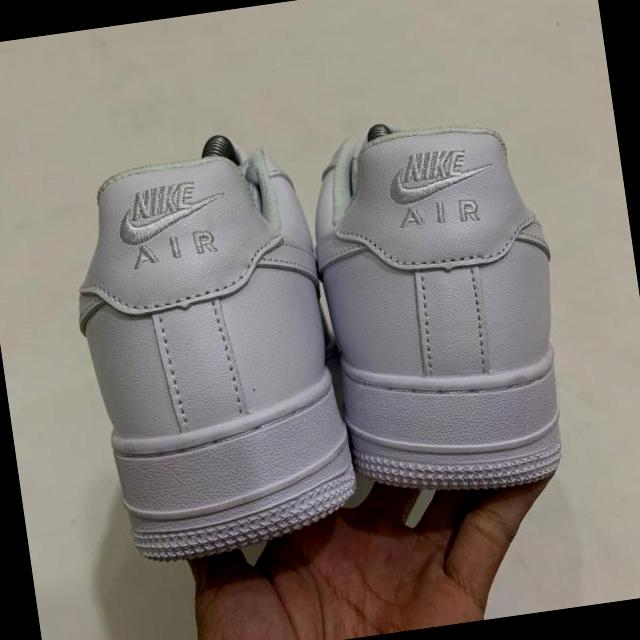nike_fake_airforce: (51, 127, 360, 570), (293, 98, 584, 509)
